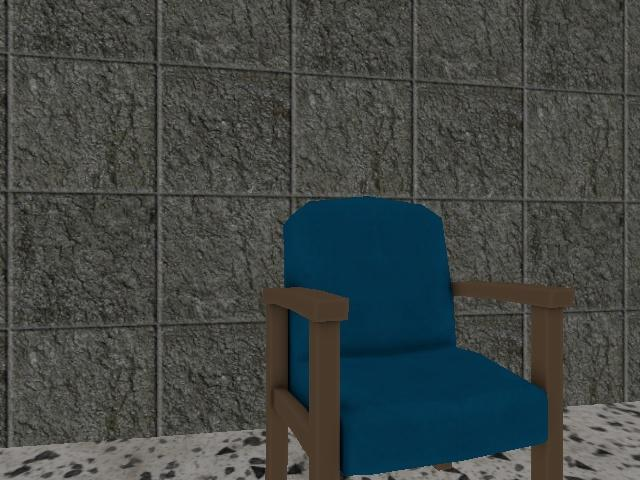chair: (262, 197, 576, 480)
